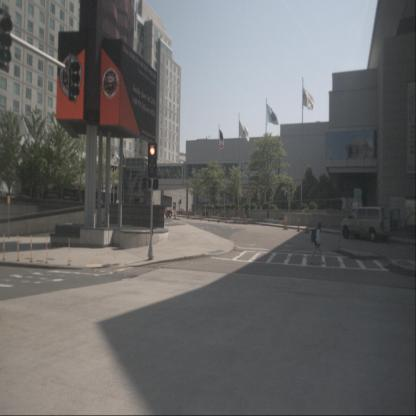human-pedestrian-adult: (309, 222, 325, 265)
movable_object-trafficcone: (2, 233, 6, 260), (16, 234, 20, 261), (305, 219, 309, 234), (68, 238, 70, 266), (339, 220, 341, 248), (46, 236, 48, 263), (30, 235, 32, 262), (297, 217, 300, 232), (285, 215, 288, 230), (217, 212, 220, 222), (208, 212, 211, 222), (194, 210, 197, 219), (283, 217, 285, 230), (245, 212, 247, 224), (243, 213, 245, 224), (225, 213, 227, 223), (174, 210, 176, 219), (200, 212, 202, 221), (234, 214, 236, 223)
vehicle-car: (341, 206, 401, 242)
